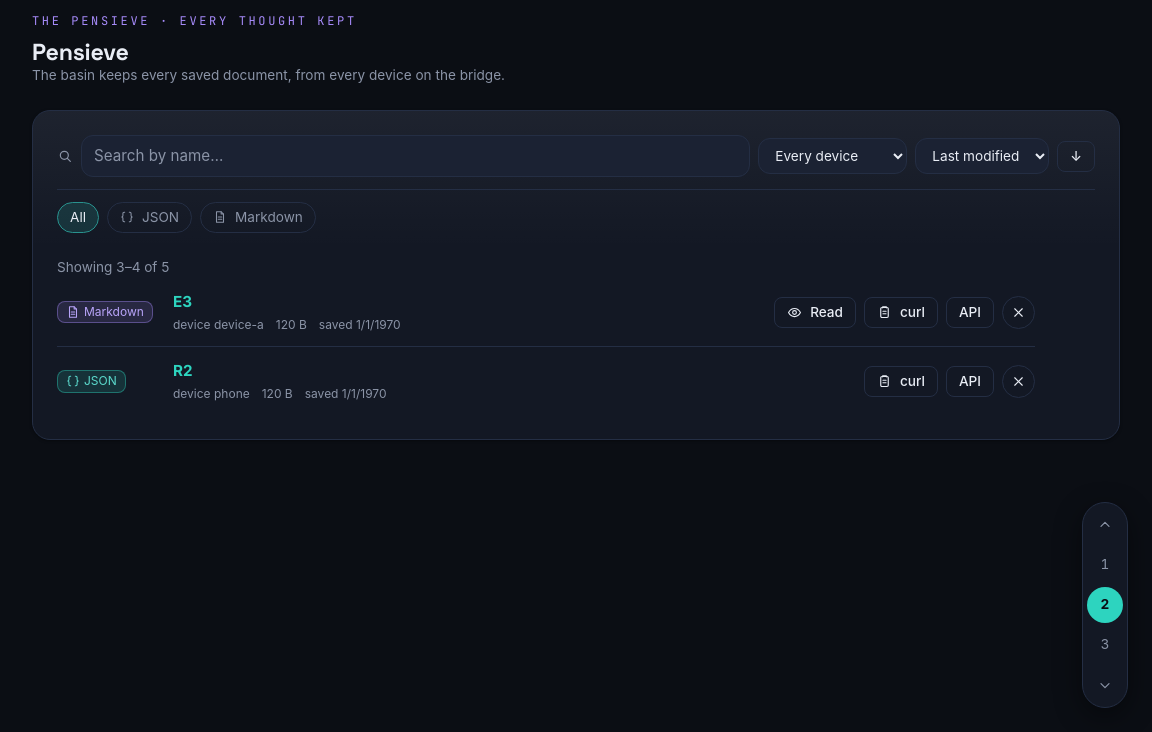
it: PensievePage › a type chip fetches only that kind and resets the page
Click the button with class "lib-chip" showing "Markdown" at (258, 217), box [200, 202, 316, 233]
Wait 300 ms
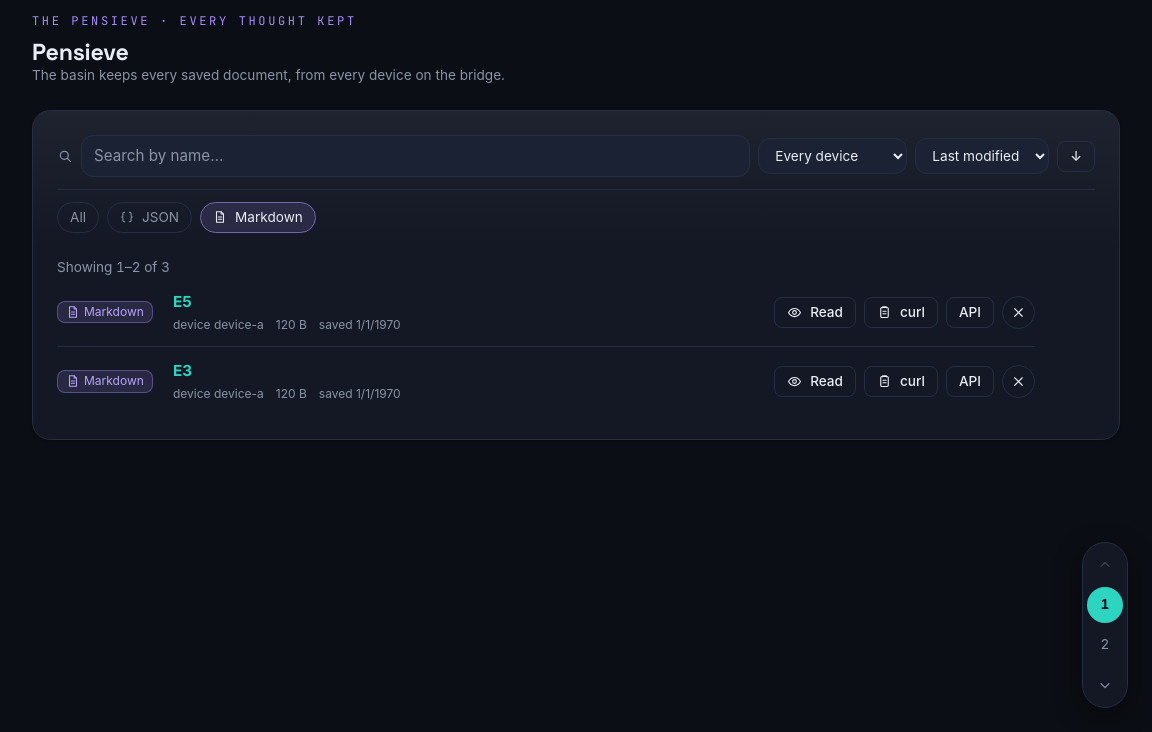
Result: the element with class "lib-status" shows "of 3" at [57, 259, 170, 275]
